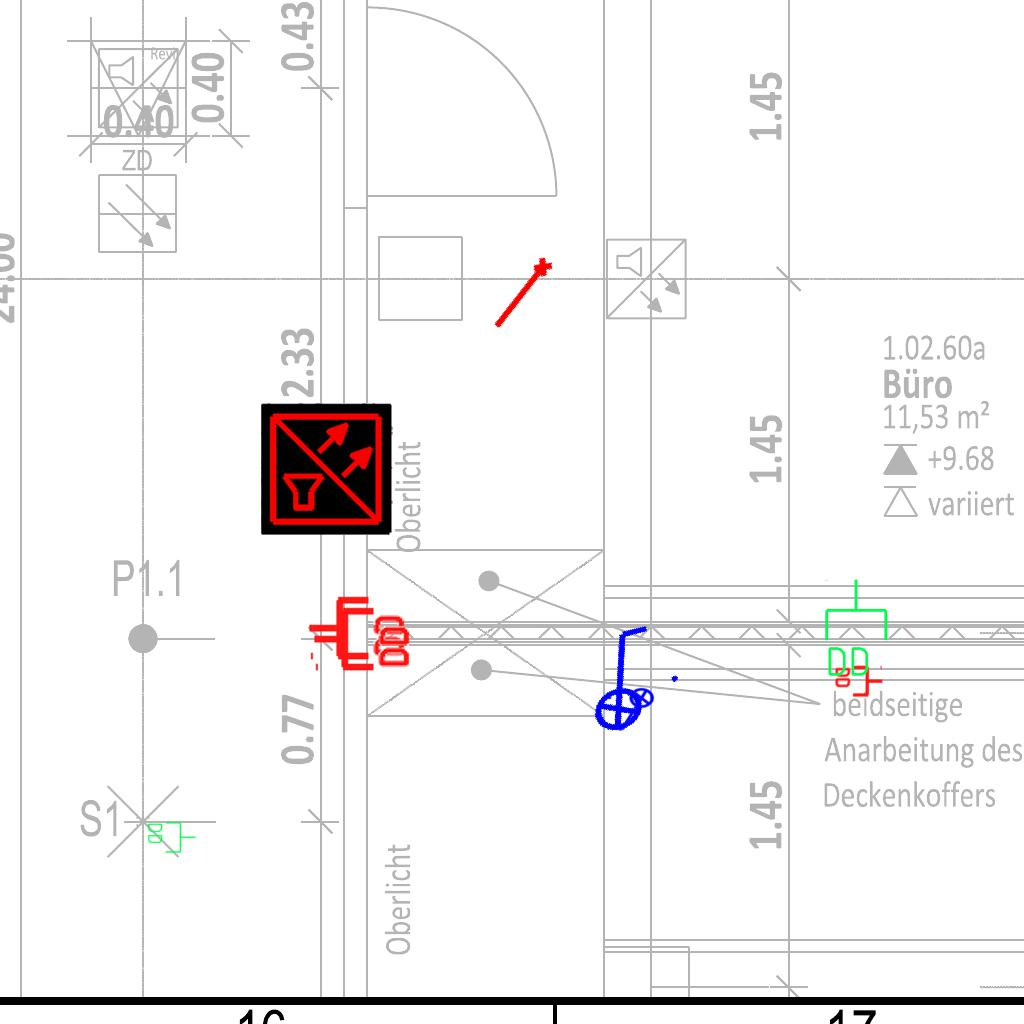ASR_Ansaugoeffnung: (486, 252, 560, 337)
Ausschalter_beleuchtet: (548, 608, 694, 748), (605, 687, 661, 735)
Datenanschluss_zweifach: (821, 577, 890, 680), (306, 592, 409, 661), (311, 603, 414, 672), (833, 665, 884, 699), (146, 820, 197, 854)
OKW_Multisensormelder_(Kombination_optischer_Rauch-Kahlenmonoxid_Waerme-Melder): (261, 403, 393, 535)
